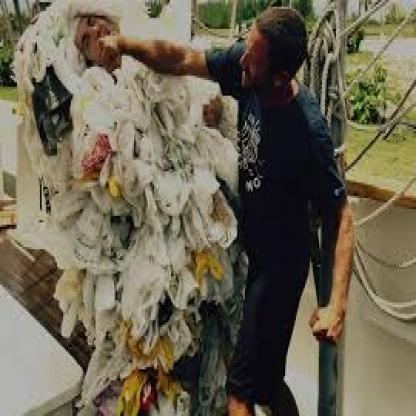Plastic: (15, 102, 228, 387)
